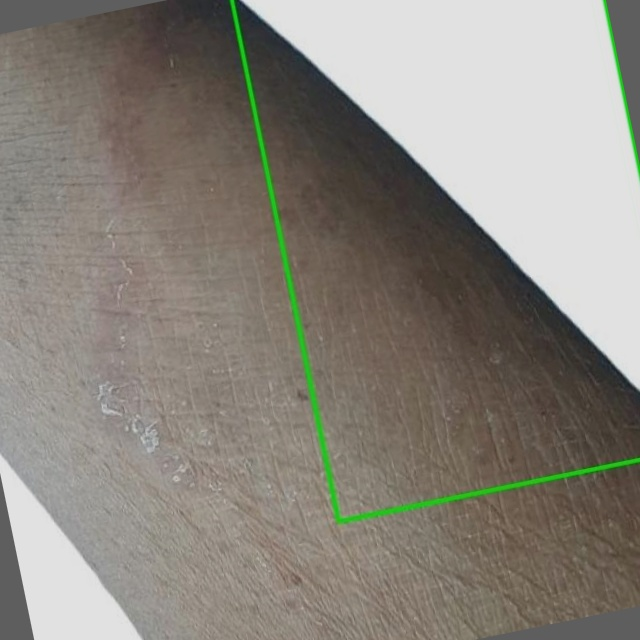Tinea Corporis: (231, 0, 639, 521)
